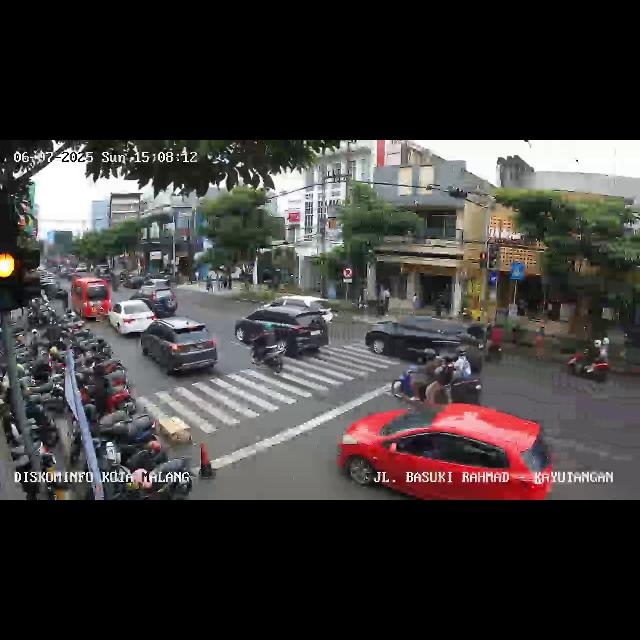car: (338, 402, 554, 500), (368, 314, 477, 366), (234, 305, 334, 357), (140, 319, 220, 379), (263, 294, 335, 330), (108, 300, 158, 338), (68, 276, 110, 320), (129, 286, 177, 316)
motorcycle: (394, 343, 484, 407), (564, 334, 612, 388), (248, 317, 288, 373), (485, 321, 505, 363)
